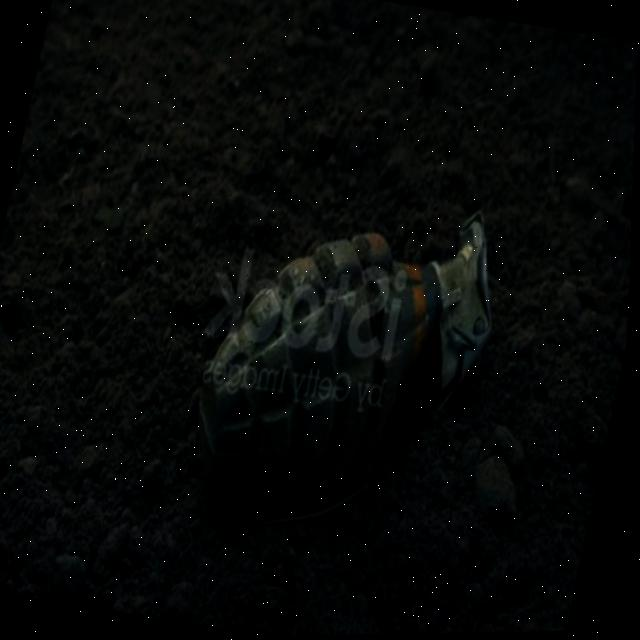grenade: (178, 164, 521, 549)
